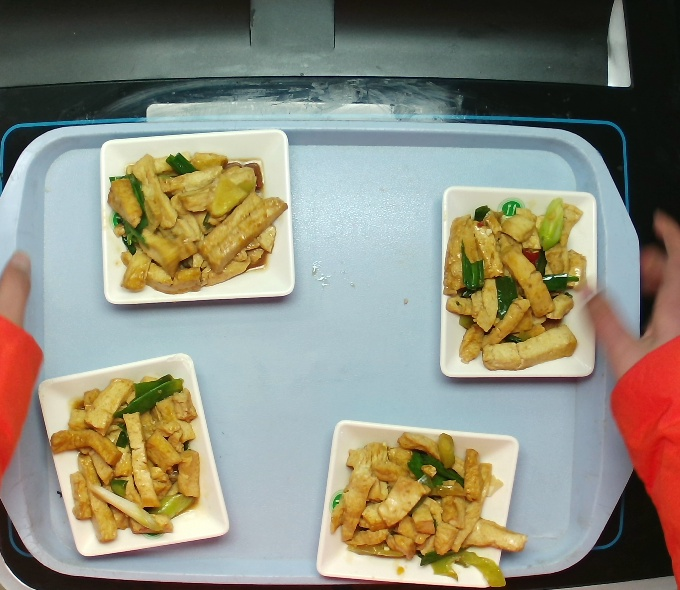wcq-SuanMiaoChaoXiangGan: (436, 189, 597, 376), (45, 368, 209, 545), (332, 430, 516, 580), (109, 149, 282, 293)
